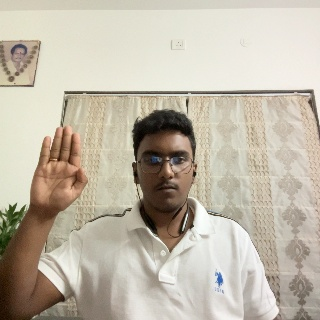Face: (133, 108, 198, 216)
Hello: (26, 127, 89, 227)
